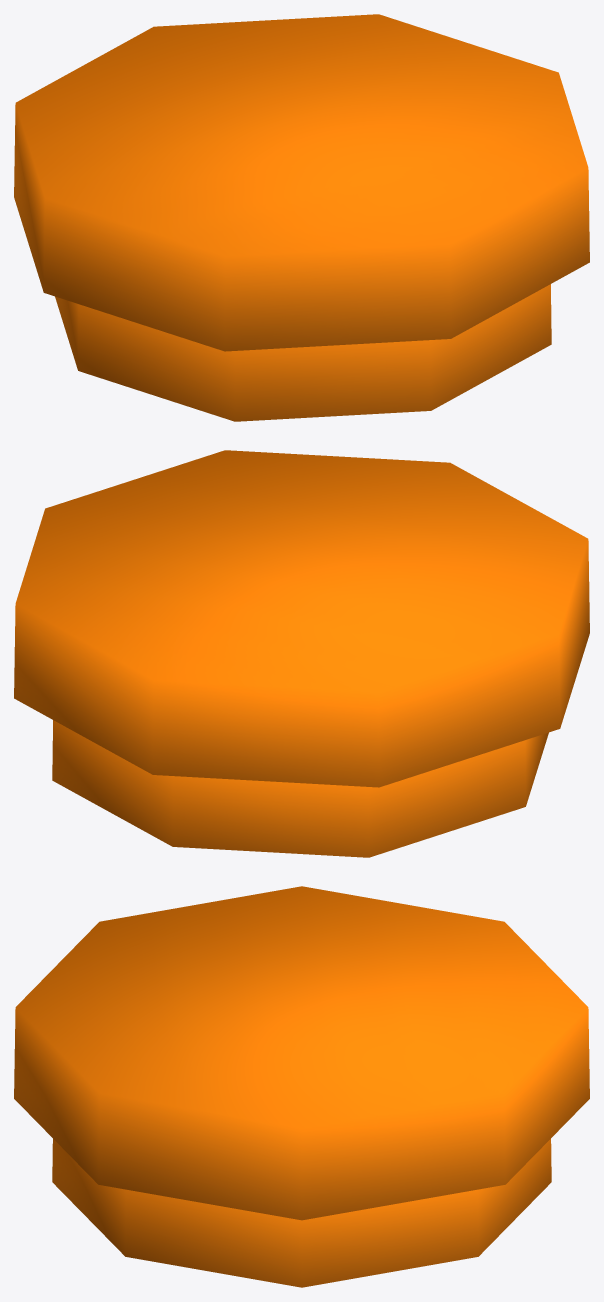
The model's file is bronze_pommel_179.glb.
The picture shows the model from 3 angles, top to bottom: view 1: azimuth 30°, elevation 25°; view 2: azimuth 150°, elevation 25°; view 3: azimuth 270°, elevation 25°; orthographic projection. The views are drawn at different scales.
Visible parts, largest first — view 1: bronze_pommel_179; view 2: bronze_pommel_179; view 3: bronze_pommel_179.
Part boxes in pixels (x1,y1,x2,y2): bronze_pommel_179: (14,14,589,421); bronze_pommel_179: (14,450,589,857); bronze_pommel_179: (14,886,589,1287).
Size of the model in its own units: 2.17 by 0.7278 by 2.17.
Materials: 1 (1 with a texture image).
